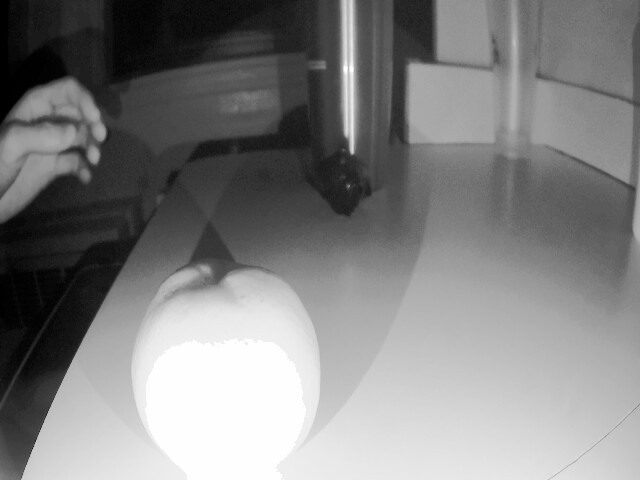black: (325, 156, 375, 208)
